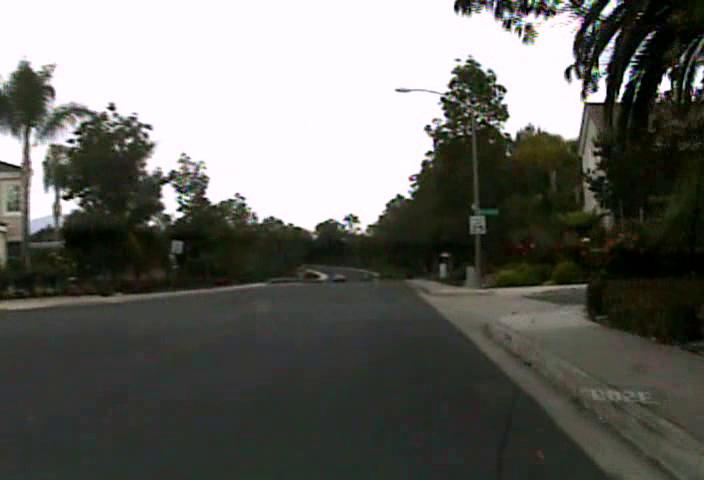speedLimit25: (469, 214, 486, 235)
